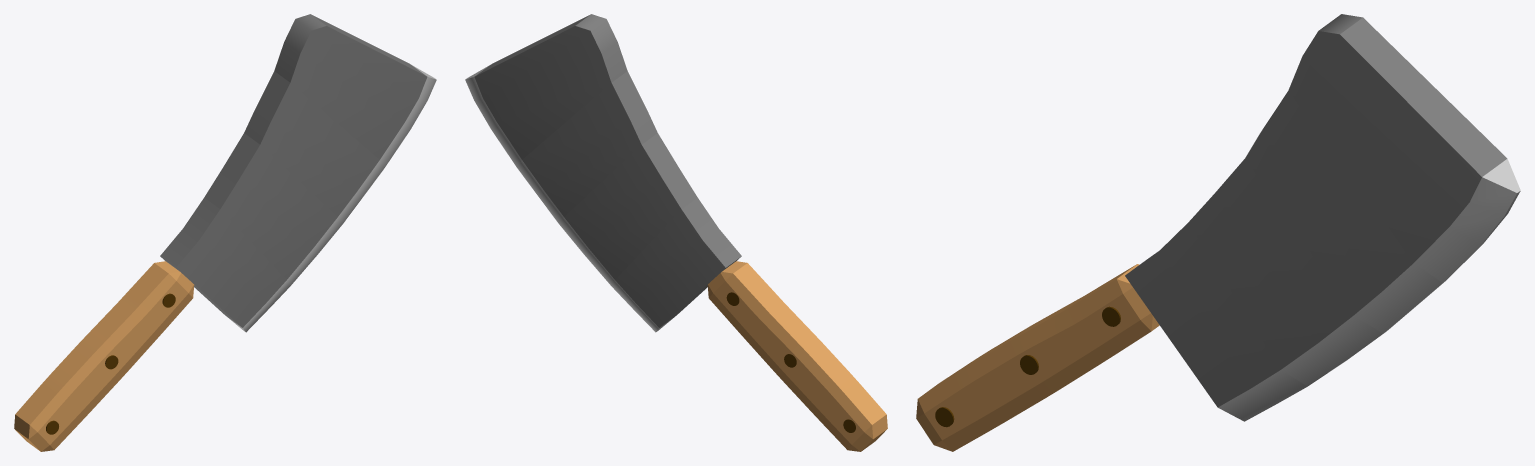
File: Knife.fbx
3 views of the same model, side by side, from view 1: azimuth 30°, elevation 25°; view 2: azimuth 150°, elevation 25°; view 3: azimuth 330°, elevation 25° (orthographic). The views are drawn at different scales.
Parts seen in each view (by area): view 1: polySurface7; view 2: polySurface7; view 3: polySurface7.
Part boxes in pixels (box(x1,y1,x2,y2)): polySurface7: box(14, 14, 436, 451); polySurface7: box(465, 14, 887, 451); polySurface7: box(916, 14, 1520, 451).
Bounding box in the file's own units: 6.93 × 5.73 × 0.5418.
